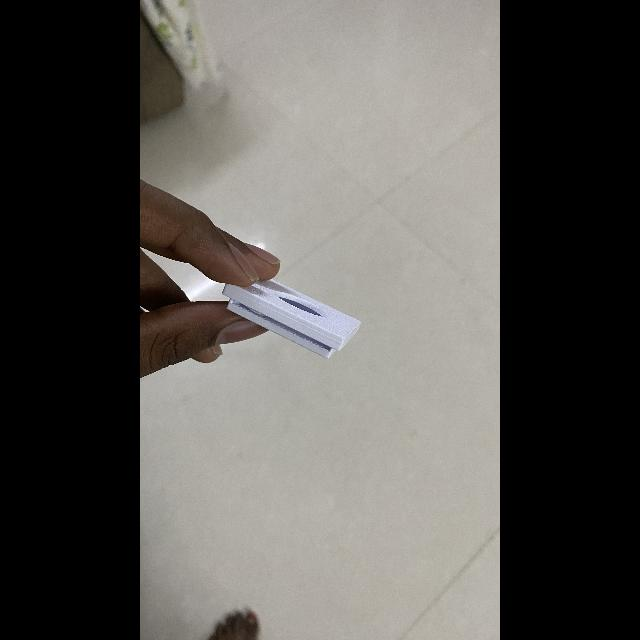RASPBERY PI CAM ENCLOSURE: (219, 244, 361, 359)
